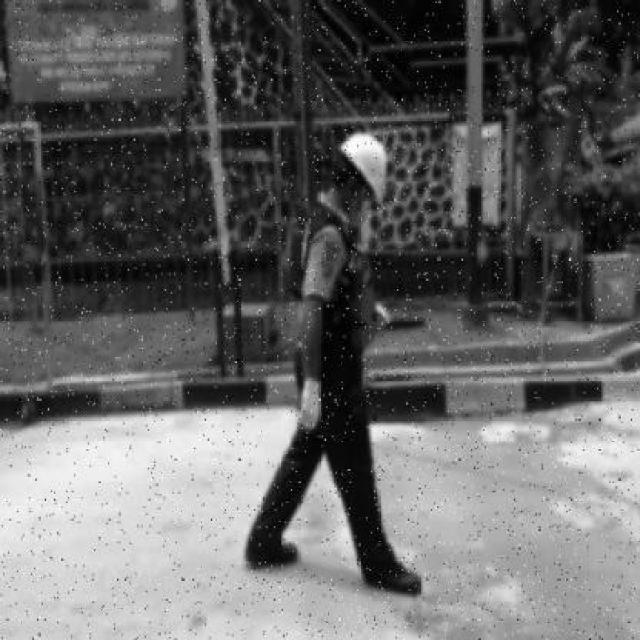Boots: (360, 553, 425, 598), (242, 526, 302, 574)
Gloves: (292, 370, 323, 433), (373, 302, 396, 331)
Helmet: (335, 128, 391, 207)
Mask: (350, 200, 372, 231)
Vest: (283, 216, 382, 362)
